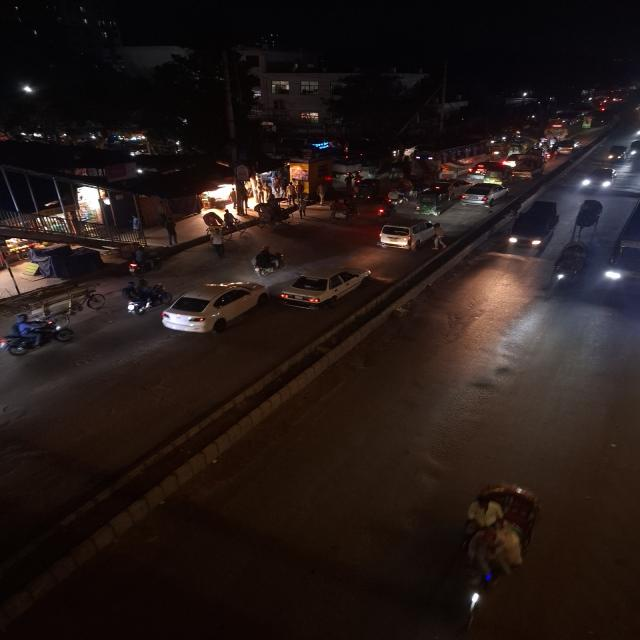bus: (605, 194, 640, 300), (426, 138, 496, 178), (546, 114, 582, 138)
car: (159, 278, 267, 338), (279, 262, 373, 312), (373, 215, 449, 252), (458, 182, 511, 208), (576, 166, 618, 194), (463, 160, 500, 182), (552, 138, 580, 156), (606, 142, 627, 162)
cng: (413, 185, 451, 215), (480, 164, 512, 182)
motorcycle: (0, 314, 72, 358), (116, 281, 164, 315), (249, 245, 287, 278), (123, 247, 162, 276), (372, 196, 400, 218), (378, 188, 407, 207)
pedestrian: (202, 229, 232, 259)
pickup_van: (505, 196, 562, 250), (511, 154, 546, 181)
rickshaw: (450, 476, 555, 640), (548, 240, 590, 294), (248, 202, 297, 232), (571, 197, 606, 233), (351, 176, 382, 202), (382, 182, 415, 206), (327, 198, 357, 222)
